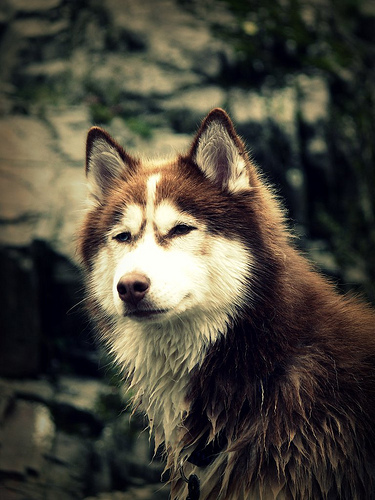dog: (70, 103, 373, 498)
